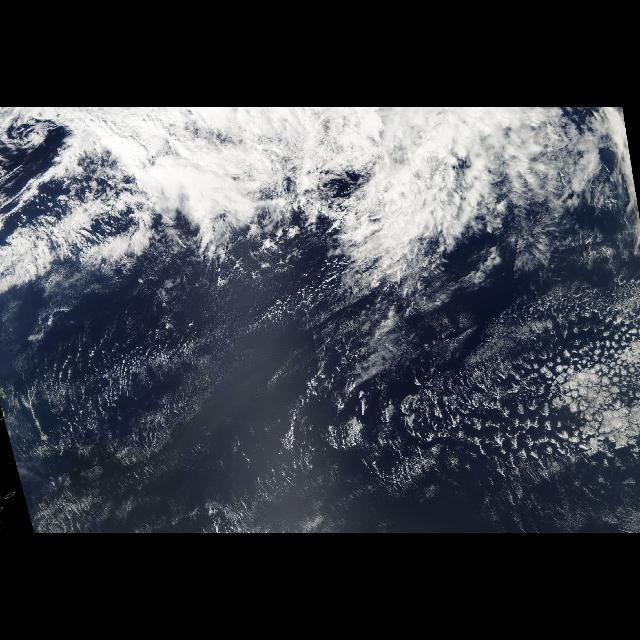Flower: (425, 278, 639, 490)
